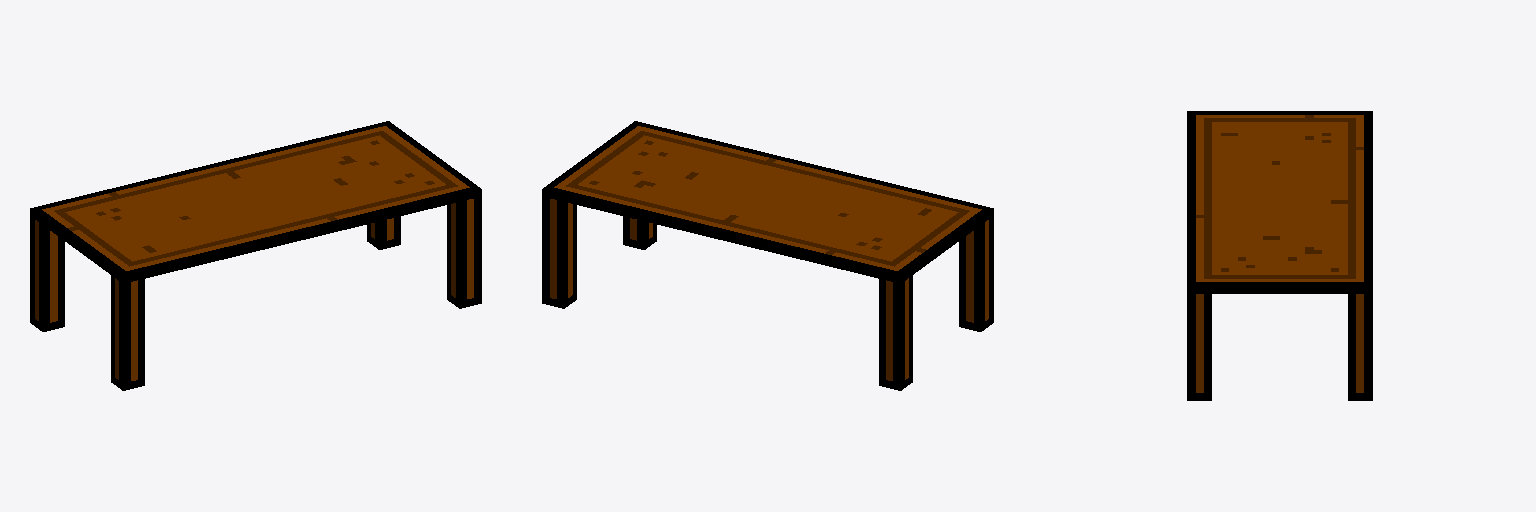
3 renders of one model, left to right at view 1: azimuth 30°, elevation 25°; view 2: azimuth 150°, elevation 25°; view 3: azimuth 270°, elevation 25°, orthographic.
Parts seen in each view (by area): view 1: LivingRoomTable; view 2: LivingRoomTable; view 3: LivingRoomTable.
Part boxes in pixels (left/top/right/bottom): LivingRoomTable: left=30, top=121, right=481, bottom=390; LivingRoomTable: left=542, top=121, right=993, bottom=390; LivingRoomTable: left=1187, top=111, right=1372, bottom=400.
Size of the model in its own units: 4.9 by 1.5 by 2.2.
1 materials, 1 textured.